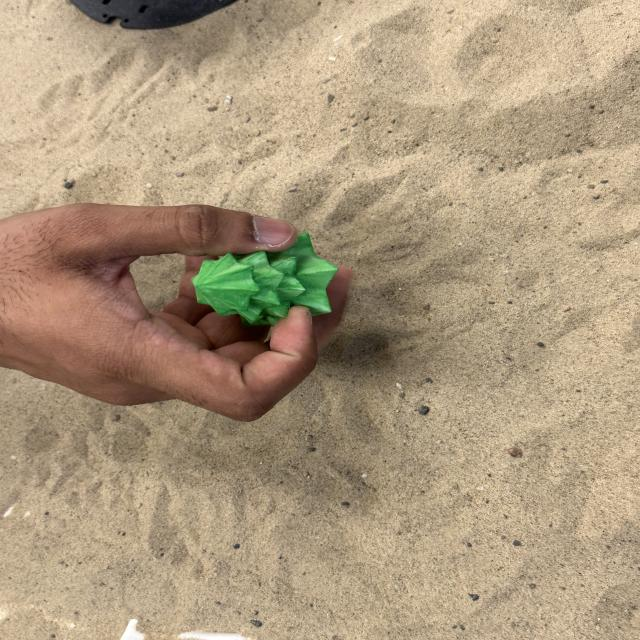tree: (190, 231, 339, 328)
